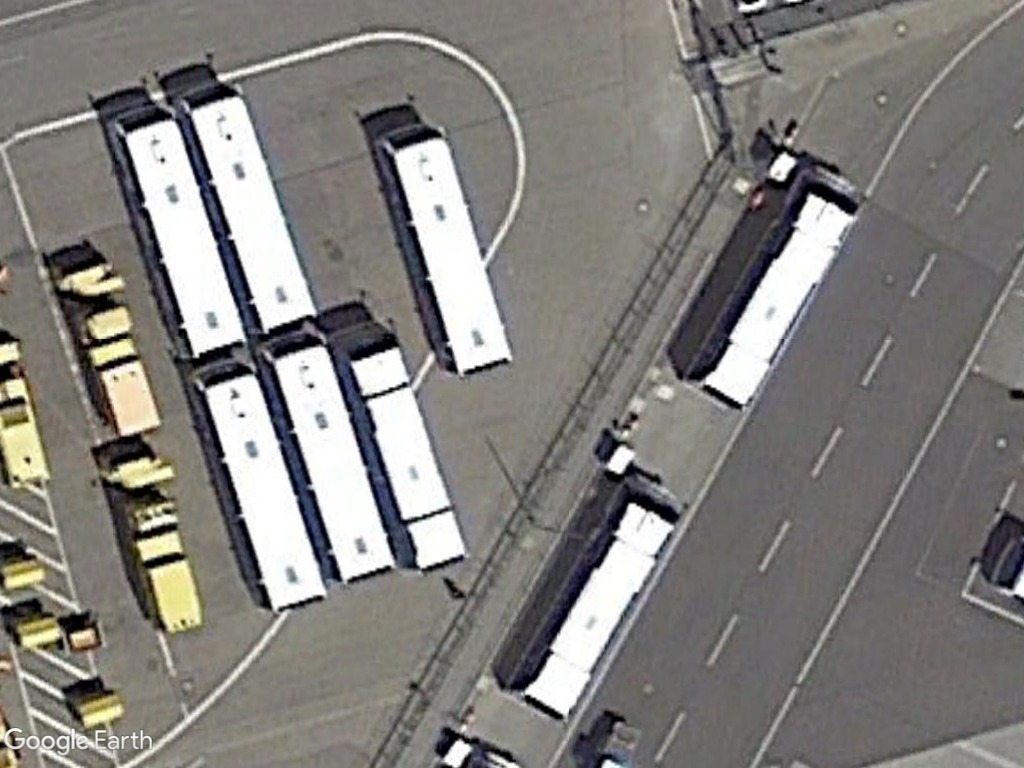bus: (511, 485, 692, 729), (686, 173, 869, 413), (172, 75, 318, 338), (251, 327, 400, 583), (183, 358, 330, 616), (107, 100, 249, 363), (373, 120, 517, 379), (330, 325, 472, 579)
